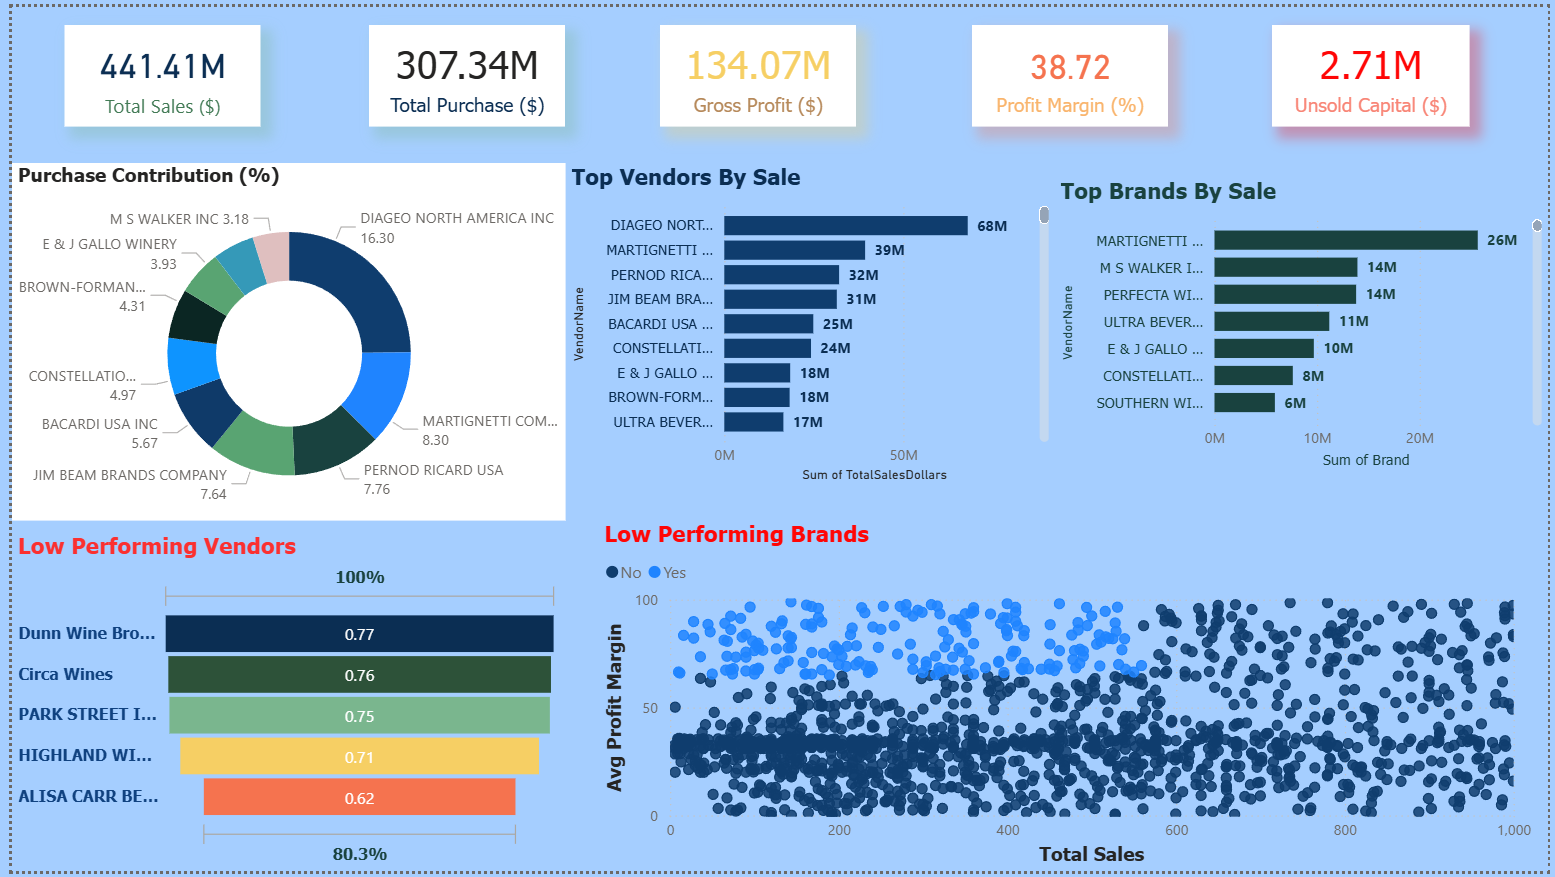

The page's visual inventory and layout, read from the dashboard file:
{"tool":"powerbi","page":{"name":"Page 1","canvas":[1280,720],"ordinal":0},"visuals":[{"type":"card","fields":{"Values":["Sum(vendor_sales_summary.TotalSalesDollars)"]},"box":[43.3,14.4,163.3,84.4],"z":0},{"type":"card","fields":{"Values":["Sum(vendor_sales_summary.TotalPurchaseDollars)"]},"box":[297.8,14.4,163.3,84.4],"z":1000},{"type":"card","fields":{"Values":["Sum(vendor_sales_summary.GrossProfit)"]},"box":[540,14.4,163.3,84.4],"z":2000},{"type":"card","fields":{"Values":["Avg(vendor_sales_summary.ProfitMargin)"]},"box":[800,14.4,163.3,84.4],"z":3000},{"type":"card","fields":{"Values":["Sum(vendor_sales_summary.UnsoldCapital)"]},"box":[1050,14.4,164.4,84.4],"z":4000},{"type":"donutChart","title":"Purchase Contribution (%) ","fields":{"Y":["Sum(PurchaseContribution.PurchaseContribution%)"],"Category":["PurchaseContribution.VendorName"]},"box":[0,130,461.1,297.8],"z":5000},{"type":"barChart","title":"Top Vendors By Sale","fields":{"Category":["vendor_sales_summary.VendorName"],"Y":["Sum(vendor_sales_summary.TotalSalesDollars)"]},"box":[461.1,130,407.8,270],"z":6000},{"type":"barChart","title":"Top Brands By Sale","fields":{"Y":["Sum(vendor_sales_summary.Brand)"],"Category":["vendor_sales_summary.VendorName"]},"box":[868.9,141.1,411.1,247.8],"z":7000},{"type":"funnel","title":"Low Performing Vendors","fields":{"Category":["LowTurnoverVendor.VendorName"],"Y":["Avg(LowTurnoverVendor.AvgStockTurnOver)"]},"box":[0,438,461,282],"z":8000},{"type":"scatterChart","title":"Low Performing Brands","fields":{"Category":["BrandPerformance.Description"],"Y":["Sum(BrandPerformance.AvgProfitMargin)"],"Series":["BrandPerformance.TargetBrand"],"X":["Sum(BrandPerformance.TotalSales)"]},"box":[488.9,427.8,782.2,292.2],"z":9000}]}

Visuals, with their boxes in screenshot pixels (x1, y1, x2, y2), scaled from the page's 1280x720 canvas onto the 1555x877 screenshot:
card - Sum(vendor_sales_summary.TotalSalesDollars): bbox=[53, 18, 251, 120]
card - Sum(vendor_sales_summary.TotalPurchaseDollars): bbox=[362, 18, 560, 120]
card - Sum(vendor_sales_summary.GrossProfit): bbox=[656, 18, 854, 120]
card - Avg(vendor_sales_summary.ProfitMargin): bbox=[972, 18, 1170, 120]
card - Sum(vendor_sales_summary.UnsoldCapital): bbox=[1276, 18, 1475, 120]
"Purchase Contribution (%) " donutChart: bbox=[0, 158, 560, 521]
"Top Vendors By Sale" barChart: bbox=[560, 158, 1056, 487]
"Top Brands By Sale" barChart: bbox=[1056, 172, 1554, 474]
"Low Performing Vendors" funnel: bbox=[0, 534, 560, 876]
"Low Performing Brands" scatterChart: bbox=[594, 521, 1544, 876]
